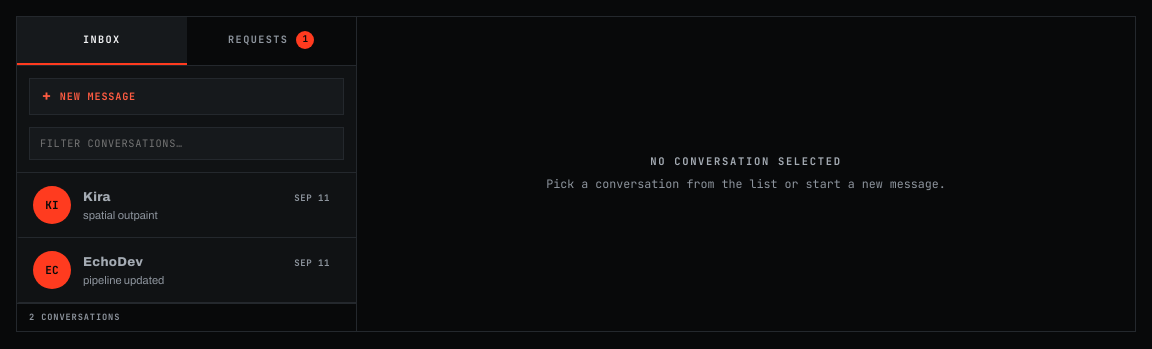
Test case: MessagingPanel › conversation list › filters conversations by handle, name and message text
Type "@kira" into the search field labelled "FILTER CONVERSATIONS" at (186, 144), box x1=29 y1=127 x2=344 y2=160
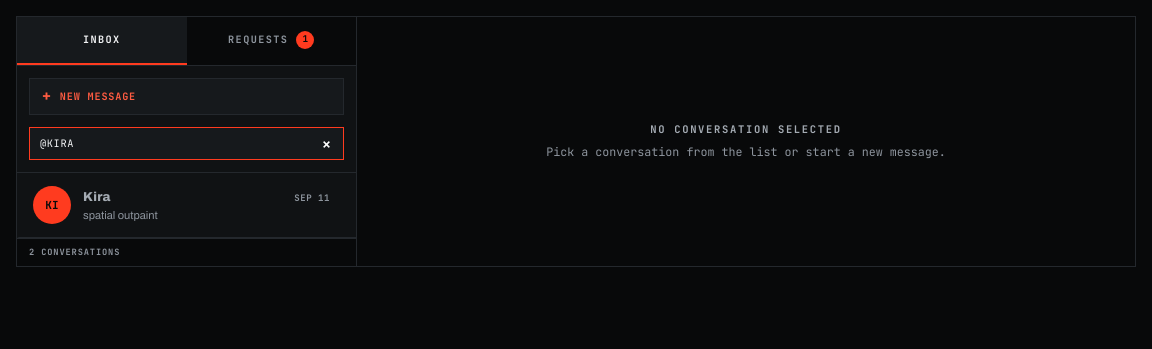
Expected: the text "Kira" is shown, x1=83 y1=190 x2=111 y2=206
Result: the button "EchoDev" is gone
Replace the text in the search field named "FILTER CONVERSATIONS" with "pipeline" at (186, 144), box x1=29 y1=127 x2=344 y2=160
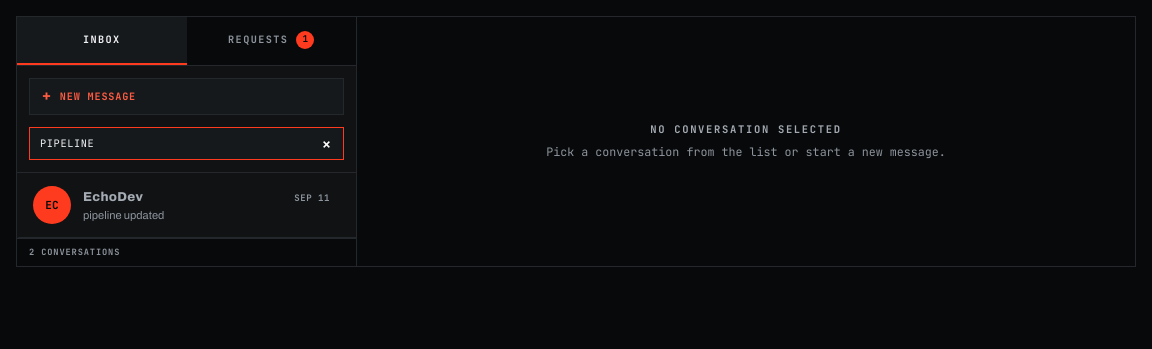
Result: the text "EchoDev" is shown at x1=83 y1=190 x2=143 y2=206
Replace the text in the search field named "FILTER CONVERSATIONS" with "zzzz" at (186, 144), box x1=29 y1=127 x2=344 y2=160
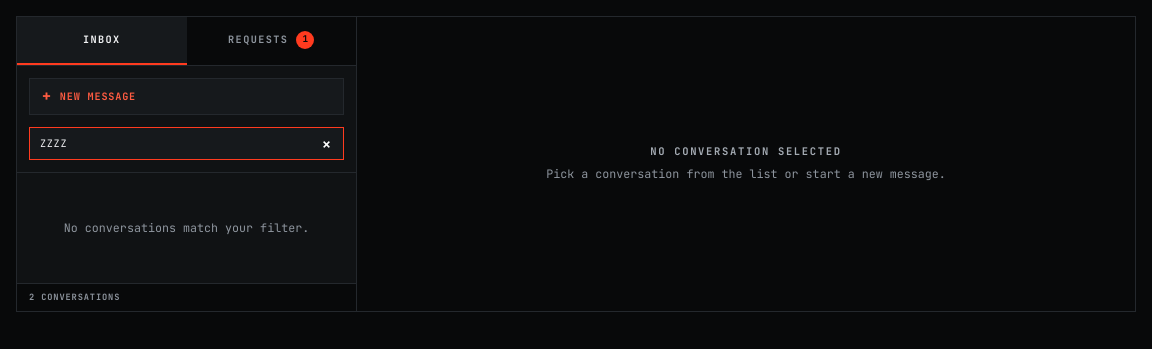
Result: the text "No conversations match your filter." is shown at x1=64 y1=220 x2=309 y2=236
